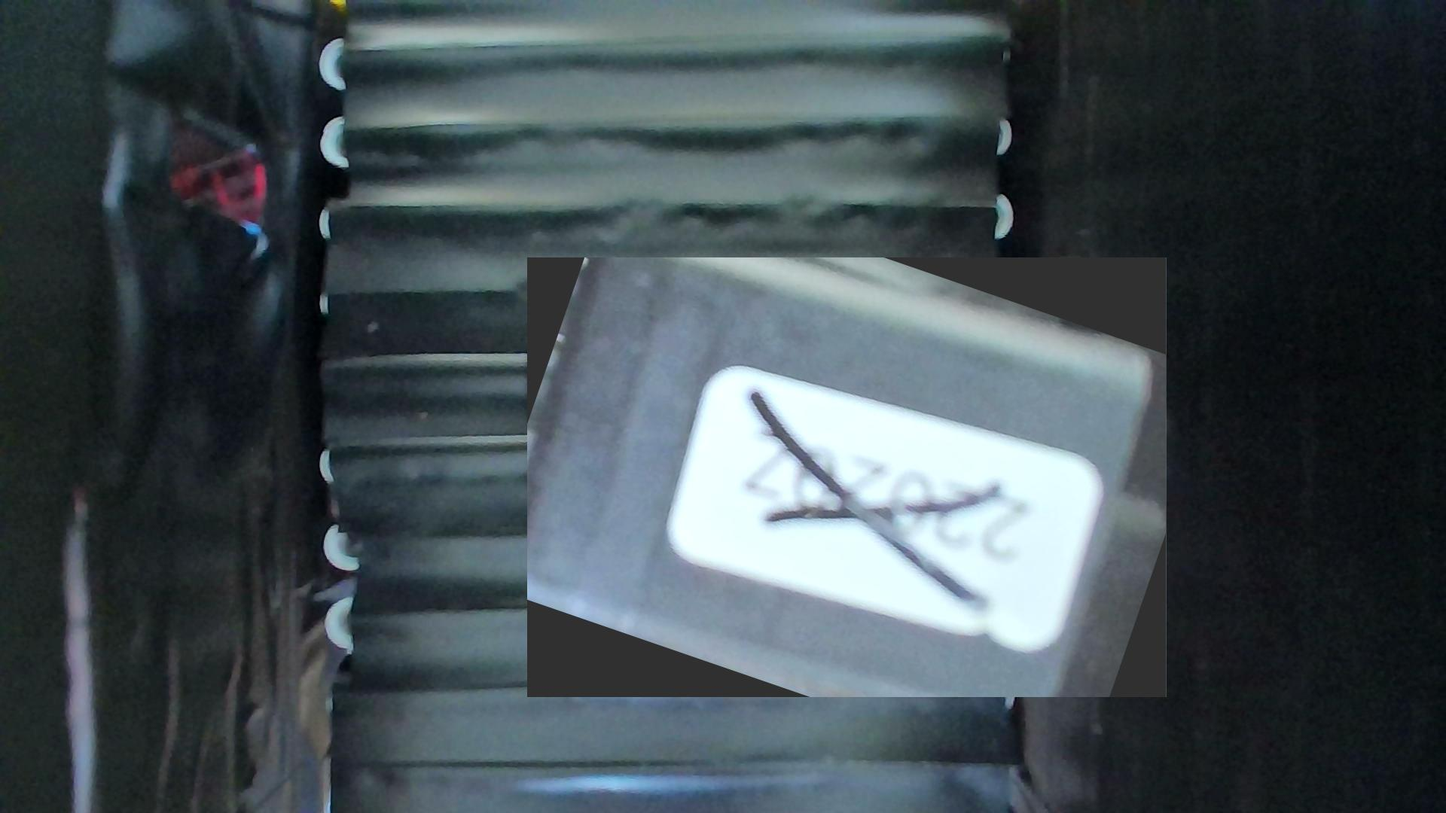motor: (528, 257, 1167, 697)
